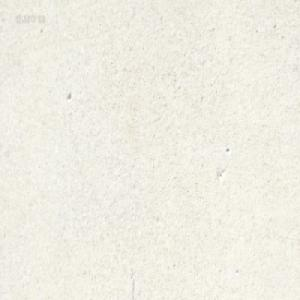Wrench: (110, 0, 116, 4)
